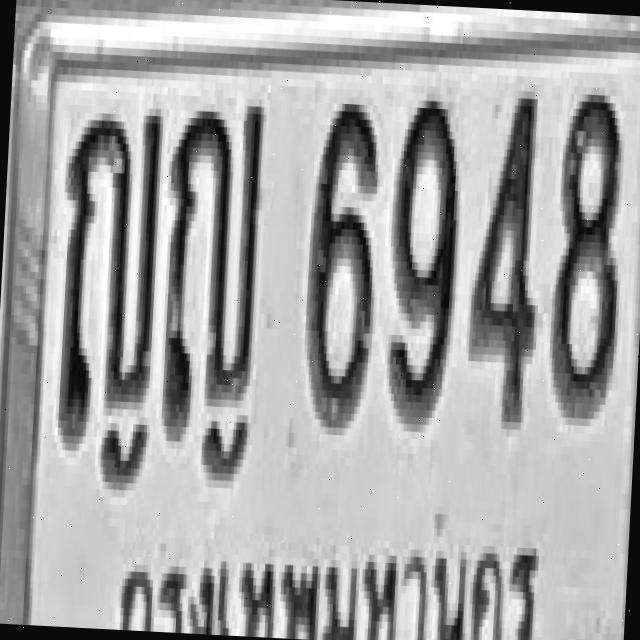22YorYing: (53, 100, 165, 443), (156, 99, 268, 442)
4: (464, 85, 548, 427)
6: (302, 95, 383, 429)
8: (546, 86, 628, 420)
9: (383, 92, 464, 426)
